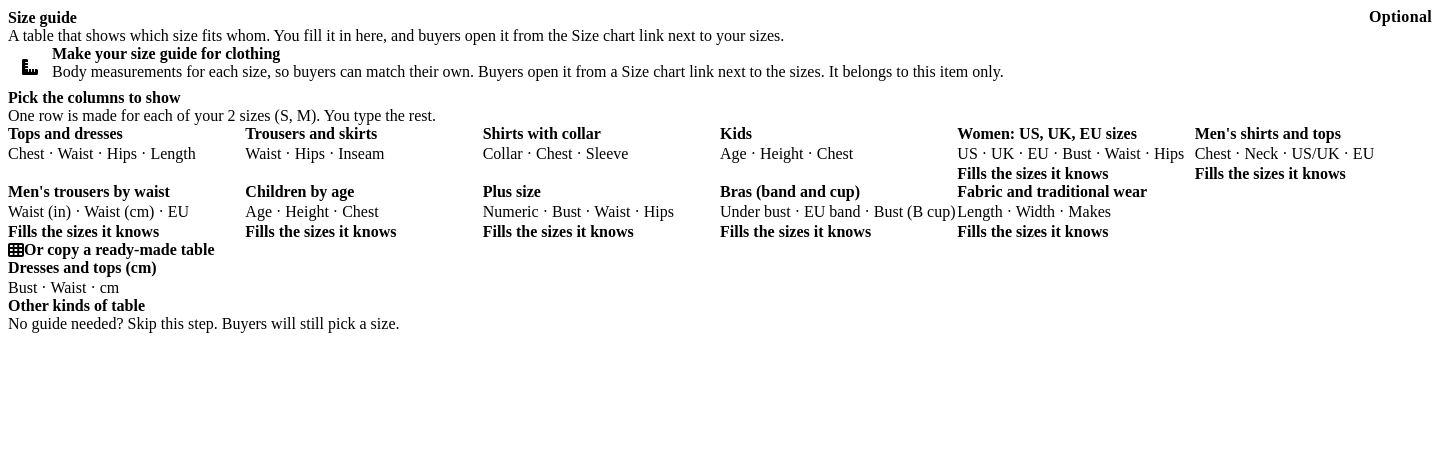
Scenario: Size guide step (seller) › a size added in Options but missing from the table is flagged and added in one tap
Click the button "Tops and dresses Chest · Waist · Hips · Length" at (127, 144), box [8,125,245,163]
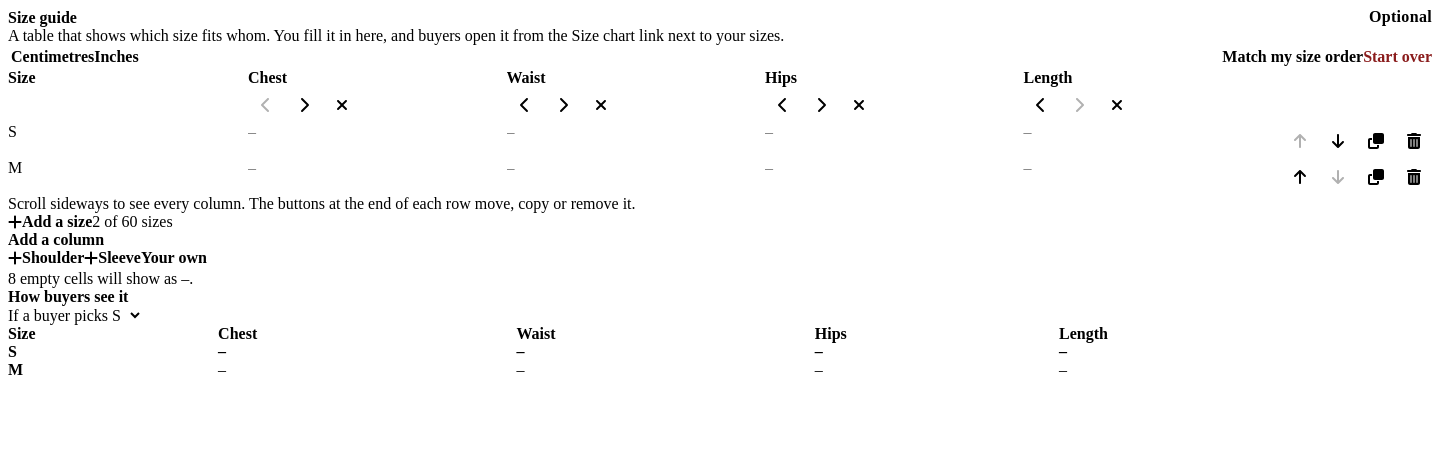
Click the button "Add a size" at (50, 222), box [8,213,92,231]
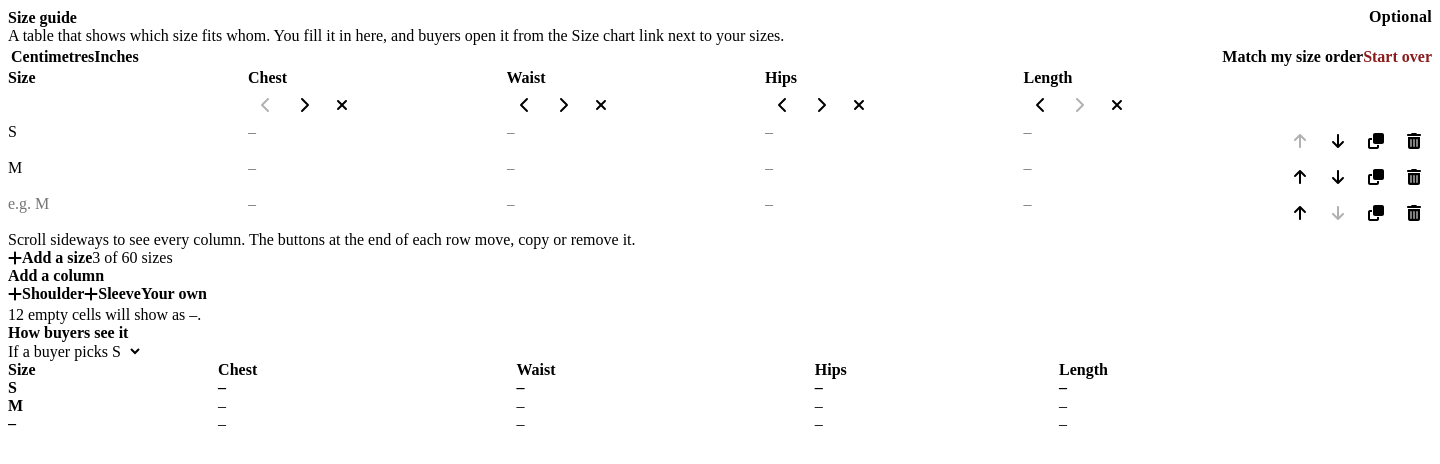
Type "XL" into the field named "Size name, row 3" at (60, 204), box [8,195,112,213]
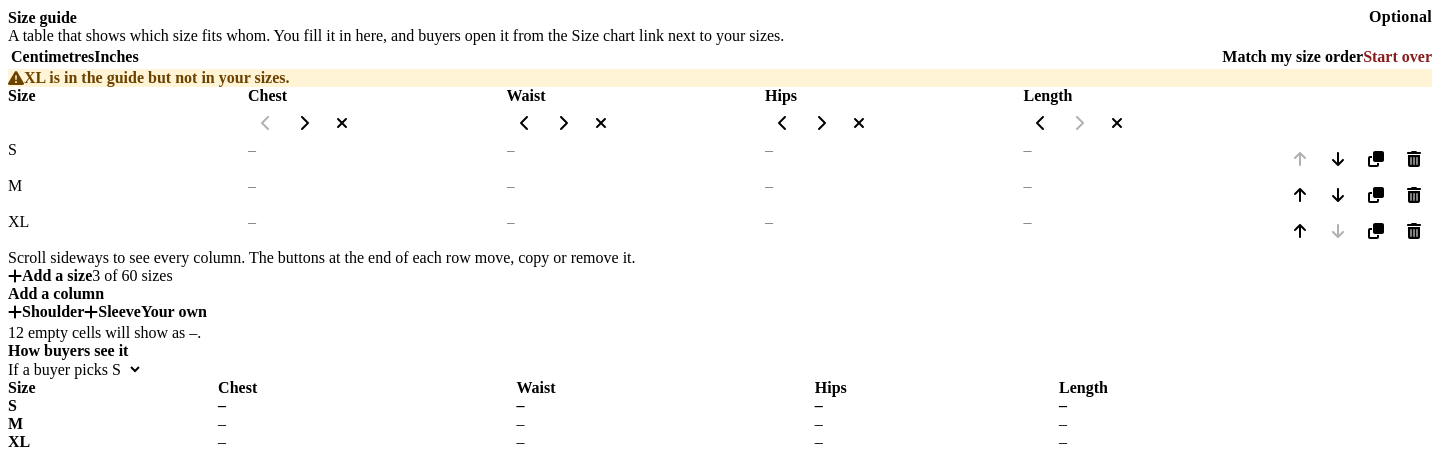
Expected: the text "XL is in the guide but not in your sizes." is shown, [24,69,290,87]
